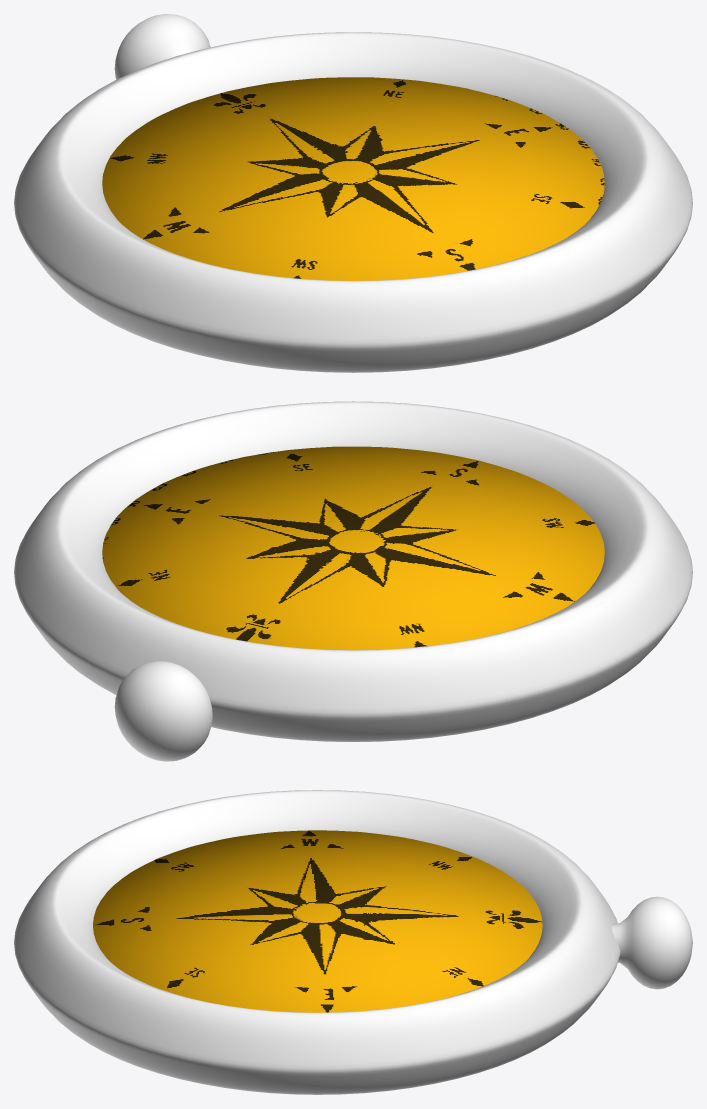
The model's file is kompas.obj.
The picture shows the model from 3 angles, top to bottom: view 1: azimuth 30°, elevation 25°; view 2: azimuth 150°, elevation 25°; view 3: azimuth 270°, elevation 25°; orthographic projection. The views are drawn at different scales.
Visible parts, largest first — view 1: Torus01, Sphere01, Sphere02; view 2: Torus01, Sphere01, Sphere02; view 3: Torus01, Sphere01, Sphere02.
Part boxes in pixels (x1=…): Torus01: x1=14, y1=32, x2=692, y2=372; Sphere01: x1=102, y1=77, x2=604, y2=280; Sphere02: x1=114, y1=14, x2=210, y2=79; Torus01: x1=14, y1=401, x2=692, y2=741; Sphere01: x1=102, y1=446, x2=604, y2=650; Sphere02: x1=114, y1=661, x2=212, y2=761; Torus01: x1=14, y1=790, x2=620, y2=1094; Sphere01: x1=93, y1=830, x2=542, y2=1012; Sphere02: x1=611, y1=896, x2=692, y2=989.
Size of the model in its own units: 131 by 19.97 by 146.
2 materials, 2 textured.
